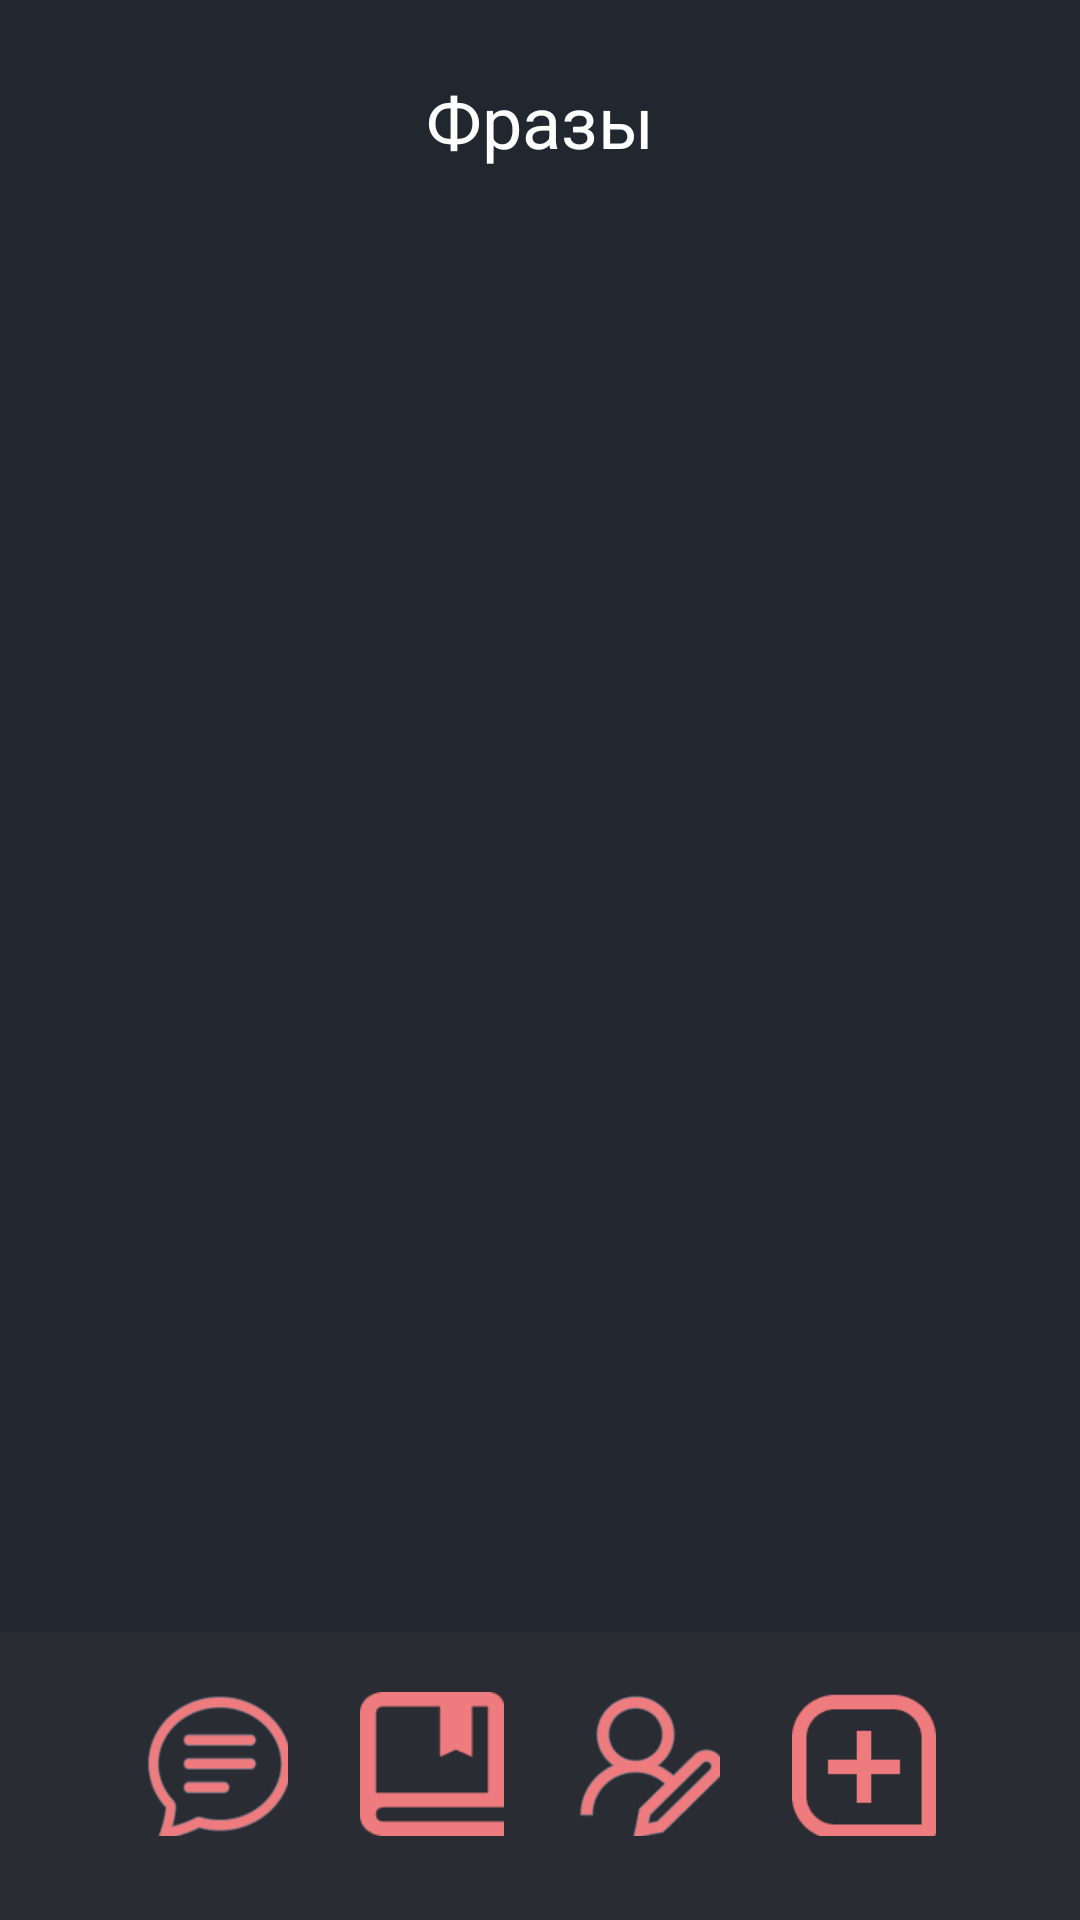

Icons on this 1080 x 1920 Android screen, each with the point to tap as (x,y):
author: (650,1766)
book: (432,1764)
message: (218,1766)
plus: (864,1765)
